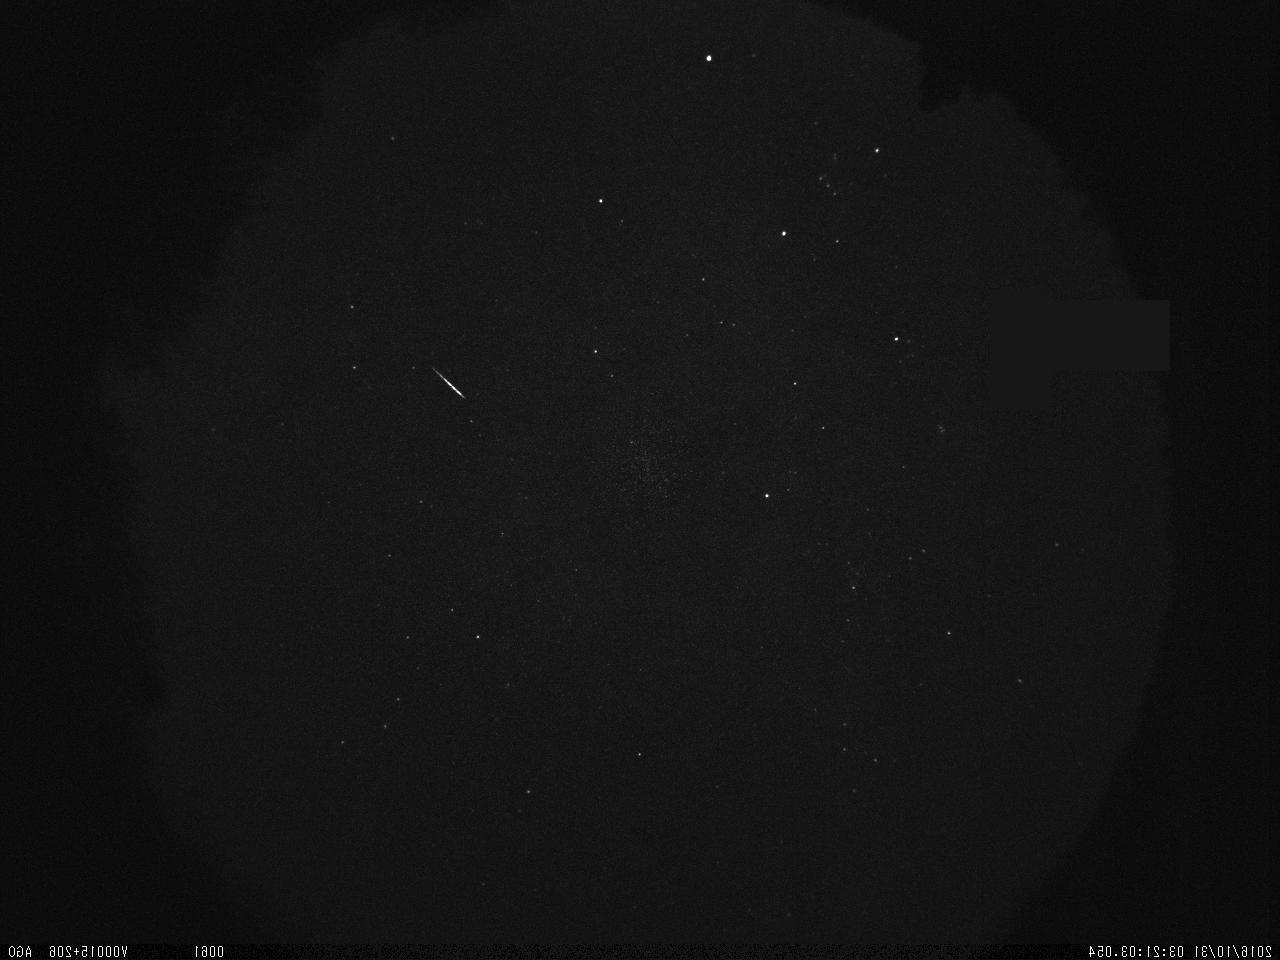meteor: (376, 346, 494, 412)
